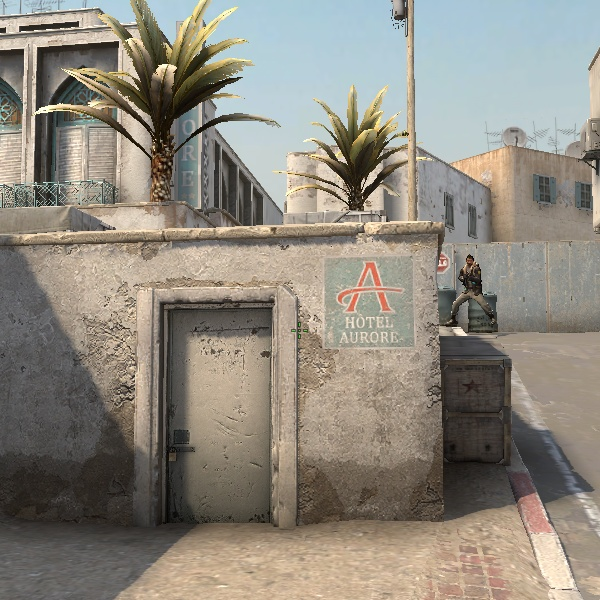t_body: (442, 251, 494, 331)
